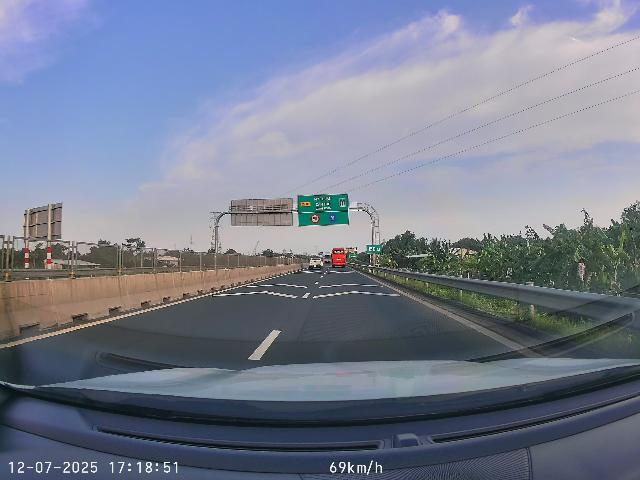127-toc-do-toi-da-90: (310, 214, 320, 224)
306-toc-do-toi-thieu-60: (328, 213, 338, 223)
437-bat-dau-duong-cao-toc: (339, 198, 346, 207)
